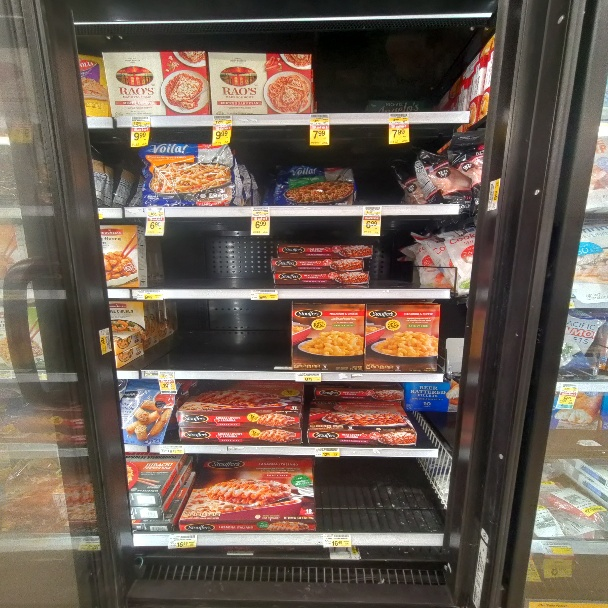All PRICE TAGS: (170, 534, 196, 548), (323, 534, 350, 547), (135, 289, 163, 300), (251, 289, 276, 300), (295, 372, 320, 381), (159, 445, 183, 454), (315, 448, 339, 457), (309, 114, 329, 124), (389, 113, 408, 123), (212, 115, 232, 124), (131, 117, 150, 126), (560, 384, 578, 393), (146, 207, 164, 216), (363, 206, 381, 215), (250, 207, 269, 215), (157, 371, 175, 378)
